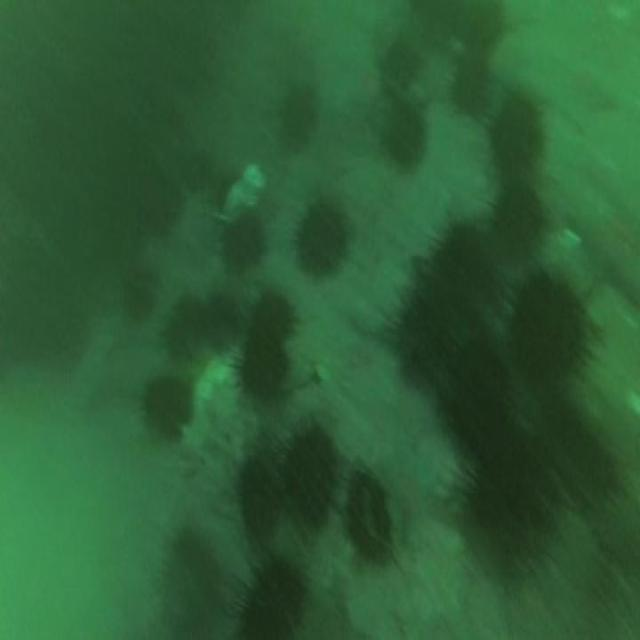echinus: (511, 274, 588, 379), (450, 330, 516, 449), (430, 229, 502, 329), (472, 436, 540, 541), (162, 526, 218, 640), (288, 425, 338, 533), (394, 292, 452, 380), (242, 561, 303, 640), (347, 472, 393, 566), (493, 90, 538, 179), (242, 450, 284, 538), (295, 199, 345, 272), (143, 378, 190, 444), (380, 107, 426, 174), (162, 300, 208, 367), (498, 182, 542, 251), (238, 338, 286, 400), (452, 48, 490, 120), (279, 85, 317, 150), (248, 292, 296, 338), (210, 295, 247, 354), (222, 218, 262, 272)
scallop: (222, 178, 258, 214), (556, 223, 583, 253), (244, 163, 268, 191), (206, 359, 230, 382), (196, 379, 210, 405), (314, 362, 332, 381)
